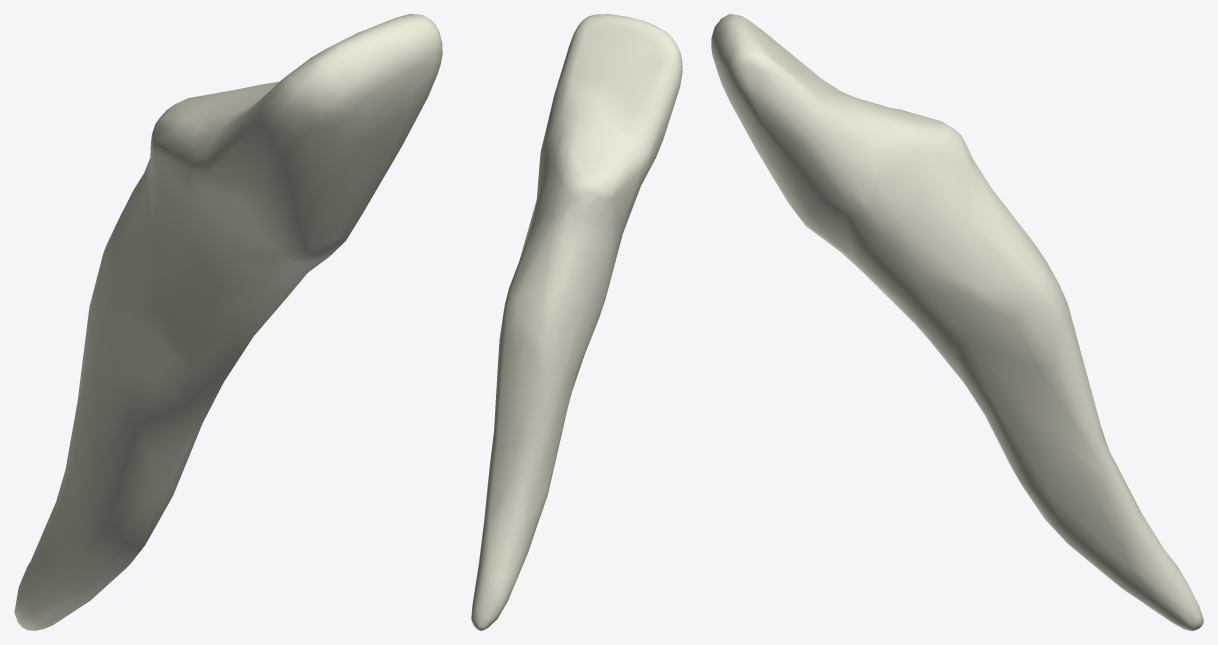
The model's file is Left lower central incisor tooth.fbx.
3 renders of one model, left to right at view 1: azimuth 30°, elevation 25°; view 2: azimuth 150°, elevation 25°; view 3: azimuth 270°, elevation 25°, orthographic. The views are drawn at different scales.
Parts seen in each view (by area): view 1: Left lower central incisor tooth; view 2: Left lower central incisor tooth; view 3: Left lower central incisor tooth.
Part boxes in pixels (bbox=[...]): Left lower central incisor tooth: bbox=[14, 14, 442, 630]; Left lower central incisor tooth: bbox=[471, 14, 682, 630]; Left lower central incisor tooth: bbox=[711, 14, 1203, 630].
Size of the model in its own units: 0.7835 by 3.39 by 2.43.
